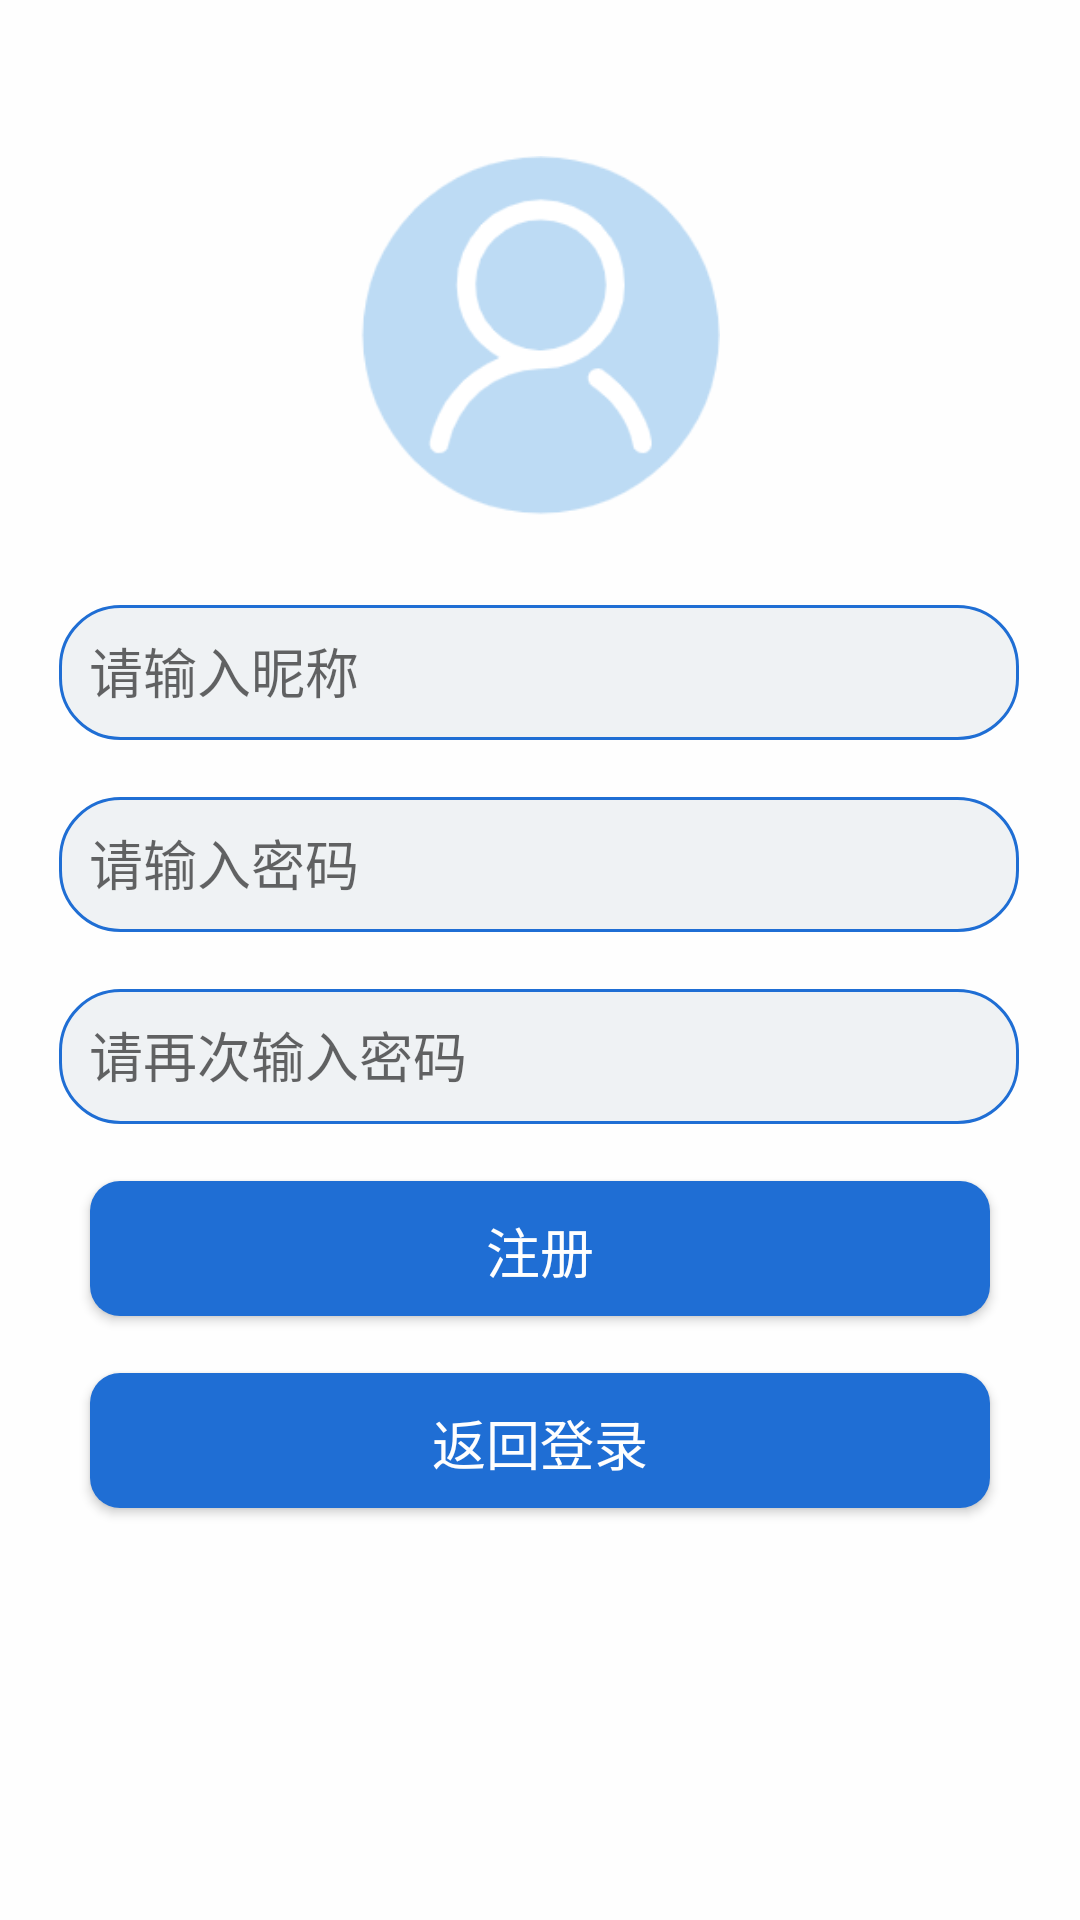

Where to tap for icons on this 1080w x 1920h app screen, as (x=x, y=y):
head portrait: (x=541, y=335)
